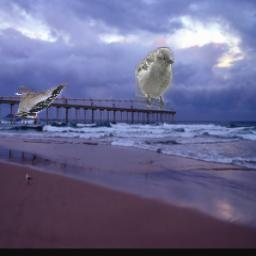Sparrow: (134, 48, 173, 111)
Woodpecker: (14, 82, 67, 118)
